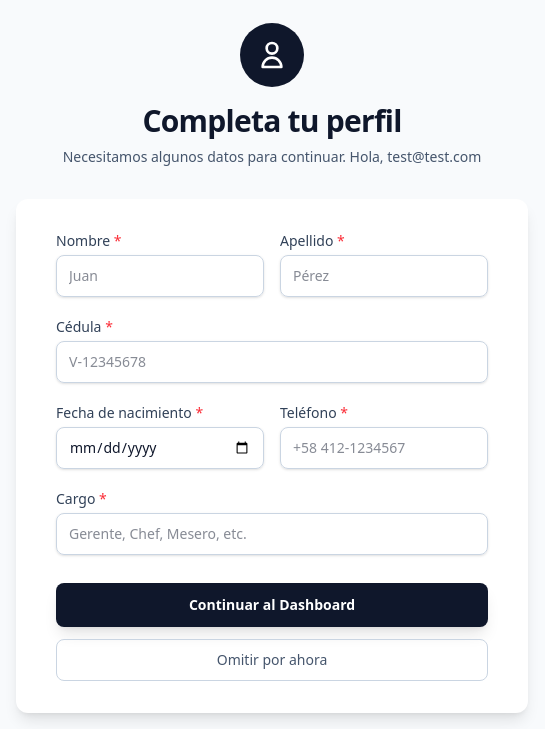
Test case: CompleteProfilePage › shows validation errors for empty fields
Click the button "Continuar al Dashboard": (272, 605) [56,583,488,627]
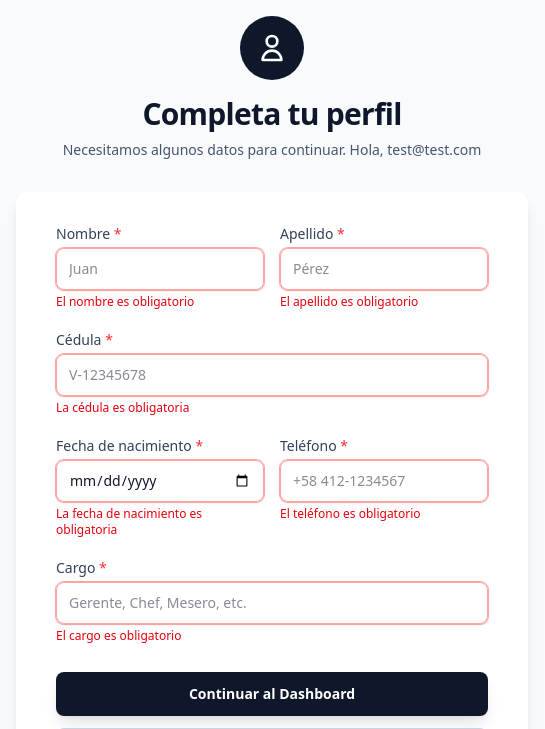
Result: the text "El nombre es obligatorio" is shown at [56,293,194,310]
Result: the text "El apellido es obligatorio" is shown at [280,293,418,310]
Result: the text "La cédula es obligatoria" is shown at [56,399,189,416]
